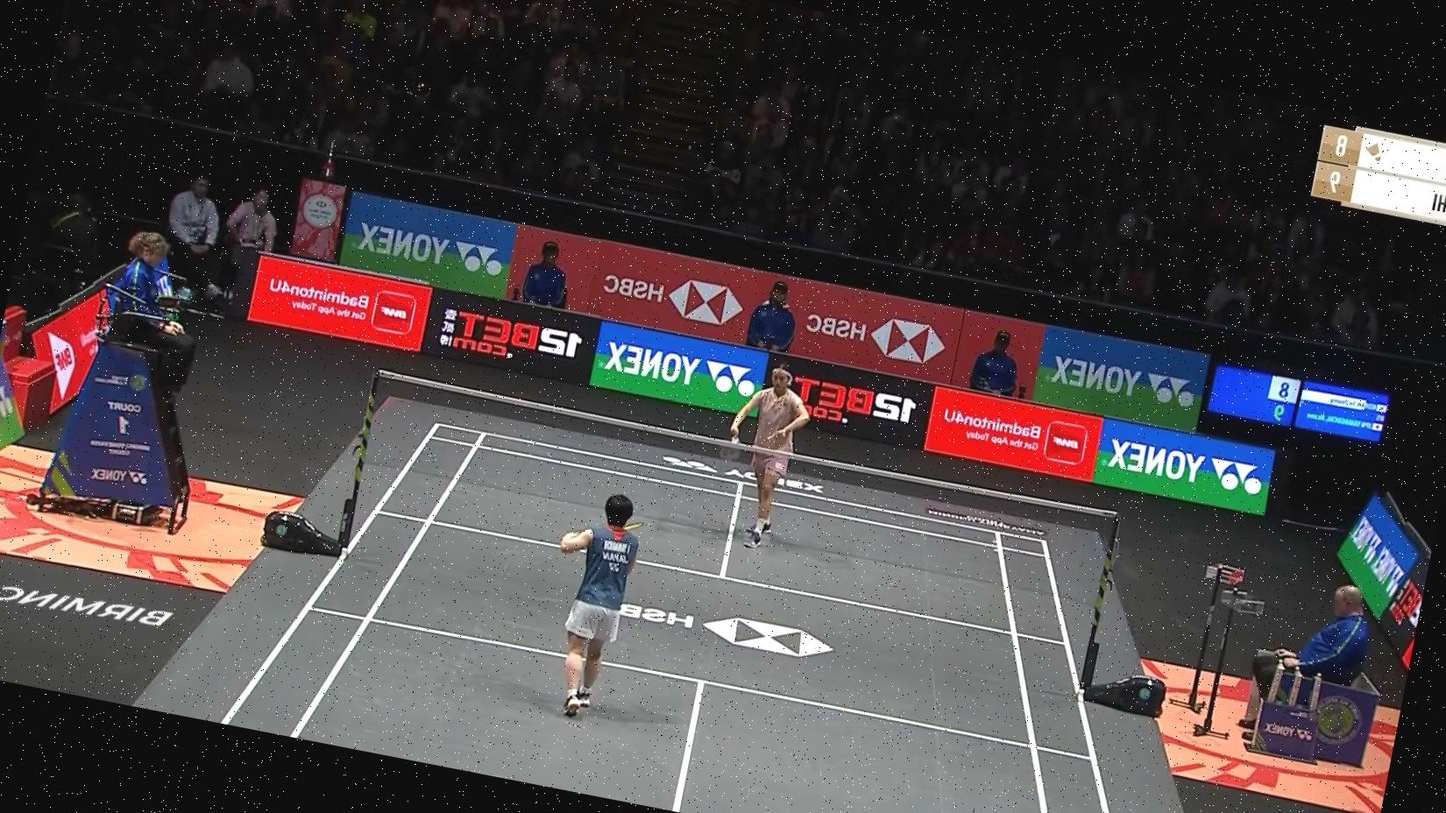Player 1: (695, 348, 830, 568)
Player 2: (506, 469, 673, 737)
shuttle: (721, 431, 747, 450)
